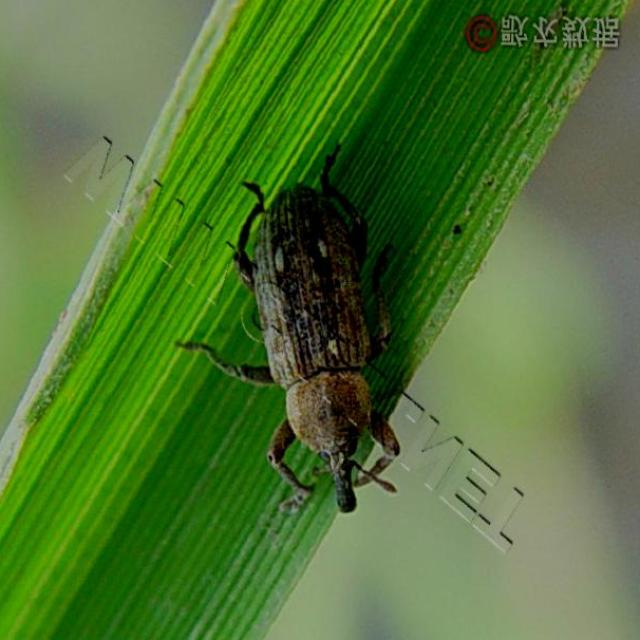ricebug: (177, 146, 399, 513)
